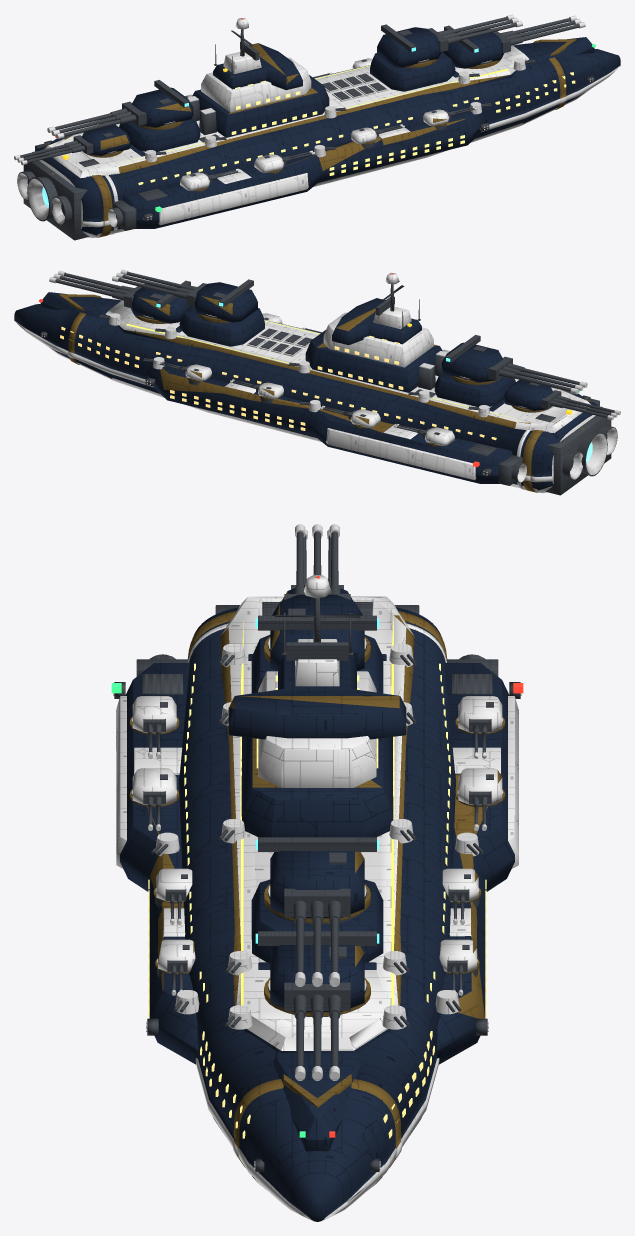
The model's file is warden_production_v1_lod1.glb.
3 renders of one model, top to bottom at view 1: azimuth 30°, elevation 25°; view 2: azimuth 150°, elevation 25°; view 3: azimuth 270°, elevation 25°, orthographic. The views are drawn at different scales.
Visible parts, largest first — view 1: LOD0_Hull, LOD0_Armor, LOD0_Mechanical, LOD0_Livery, LOD0_MechanicalDark, LOD0_Lights_Warm, LOD0_Lights_Cyan_gold, LOD0_HOOK_SENSOR_MAST_Mechanical; view 2: LOD0_Hull, LOD0_Mechanical, LOD0_Armor, LOD0_Livery, LOD0_MechanicalDark, LOD0_HOOK_ARMOR_PORT_Armor, LOD0_Lights_Warm, LOD0_HOOK_SECONDARY_TURRET_Armor, LOD0_Lights_Cyan_gold, LOD0_HOOK_SENSOR_MAST_Mechanical; view 3: LOD0_Hull, LOD0_Armor, LOD0_Mechanical, LOD0_Livery, LOD0_MechanicalDark, LOD0_Lights_Warm, LOD0_HOOK_ARMOR_PORT_Armor, LOD0_HOOK_SENSOR_MAST_Mechanical, LOD0_HOOK_SECONDARY_TURRET_Armor, LOD0_Lights_Cyan_gold.
Boxes of the visible parts, left/top/right/bottom form: LOD0_Hull: left=36, top=27, right=620, bottom=235; LOD0_Armor: left=44, top=45, right=593, bottom=238; LOD0_Mechanical: left=17, top=17, right=594, bottom=240; LOD0_Livery: left=44, top=39, right=576, bottom=237; LOD0_MechanicalDark: left=14, top=14, right=620, bottom=229; LOD0_Lights_Warm: left=138, top=72, right=575, bottom=185; LOD0_Lights_Cyan_gold: left=72, top=65, right=508, bottom=164; LOD0_HOOK_SENSOR_MAST_Mechanical: left=231, top=29, right=259, bottom=60; LOD0_Hull: left=14, top=282, right=598, bottom=490; LOD0_Mechanical: left=40, top=272, right=617, bottom=495; LOD0_Armor: left=41, top=300, right=590, bottom=493; LOD0_Livery: left=58, top=294, right=590, bottom=492; LOD0_MechanicalDark: left=14, top=269, right=620, bottom=484; LOD0_HOOK_ARMOR_PORT_Armor: left=326, top=428, right=476, bottom=480; LOD0_Lights_Warm: left=60, top=327, right=496, bottom=440; LOD0_HOOK_SECONDARY_TURRET_Armor: left=425, top=427, right=454, bottom=445; LOD0_Lights_Cyan_gold: left=126, top=320, right=520, bottom=420; LOD0_HOOK_SENSOR_MAST_Mechanical: left=375, top=284, right=404, bottom=315; LOD0_Hull: left=120, top=585, right=514, bottom=1221; LOD0_Armor: left=116, top=596, right=502, bottom=1220; LOD0_Mechanical: left=114, top=531, right=520, bottom=1171; LOD0_Livery: left=129, top=591, right=505, bottom=1167; LOD0_MechanicalDark: left=113, top=524, right=521, bottom=1219; LOD0_Lights_Warm: left=148, top=663, right=486, bottom=1138; LOD0_HOOK_ARMOR_PORT_Armor: left=508, top=696, right=518, bottom=868; LOD0_HOOK_SENSOR_MAST_Mechanical: left=274, top=597, right=360, bottom=660; LOD0_HOOK_SECONDARY_TURRET_Armor: left=458, top=696, right=502, bottom=732; LOD0_Lights_Cyan_gold: left=241, top=616, right=393, bottom=1005.
Size of what is drawn, in the model's own units: 42.13 by 11.02 by 12.5.
Materials: 12 (5 with a texture image).
